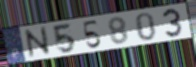0: (133, 12, 158, 42)
3: (162, 7, 183, 39)
5: (51, 21, 77, 54), (81, 19, 102, 49)
8: (107, 16, 130, 45)
N: (22, 25, 53, 60)
